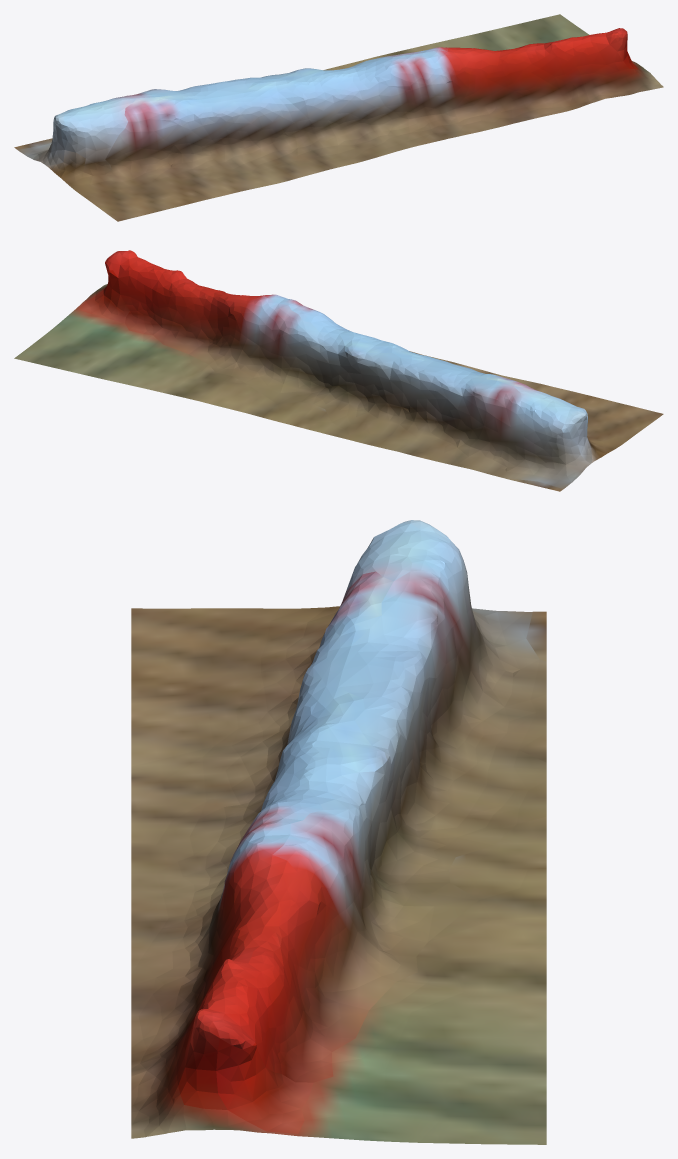
Rendered from Marker.glb.
The picture shows the model from 3 angles, top to bottom: view 1: azimuth 30°, elevation 25°; view 2: azimuth 150°, elevation 25°; view 3: azimuth 270°, elevation 25°; orthographic projection. The views are drawn at different scales.
Visible parts, largest first — view 1: mesh; view 2: mesh; view 3: mesh.
Part boxes in pixels (x1,y1,x2,y2): mesh: (14,14,663,221); mesh: (14,250,663,491); mesh: (131,520,546,1144).
Size of the model in its own units: 0.1418 by 0.0145 by 0.0467.
Materials: 1 (1 with a texture image).
